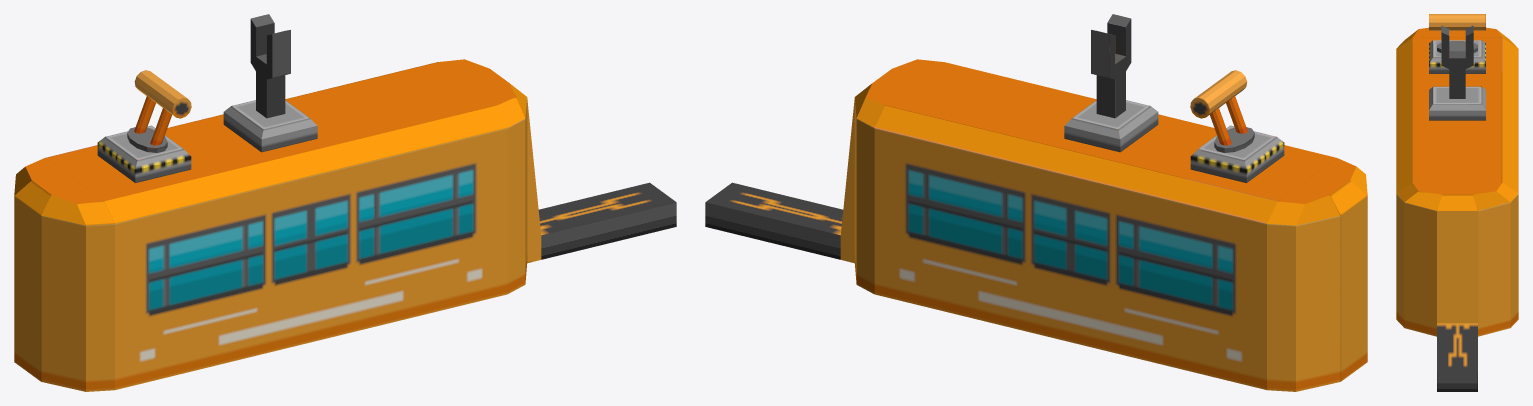
File: StreetCar.fbx
3 views of the same model, side by side, from view 1: azimuth 30°, elevation 25°; view 2: azimuth 150°, elevation 25°; view 3: azimuth 270°, elevation 25° (orthographic). The views are drawn at different scales.
Parts seen in each view (by area): view 1: cuboid, cuboid_3, cuboid_2, cuboid_1, cylinder_2, cylinder_3; view 2: cuboid, cuboid_3, cuboid_2, cuboid_1, cylinder_2, cylinder_3; view 3: cuboid, cuboid_2, cuboid_3, cylinder_2, cuboid_1, cylinder_3.
Boxes of the visible parts, x1,y1,x2,y2 form: cuboid: (14, 59, 676, 391); cuboid_3: (250, 14, 290, 118); cuboid_2: (223, 100, 317, 152); cuboid_1: (97, 125, 191, 182); cylinder_2: (134, 70, 191, 118); cylinder_3: (127, 127, 167, 152); cuboid: (705, 59, 1367, 391); cuboid_3: (1091, 14, 1131, 118); cuboid_2: (1064, 100, 1158, 152); cuboid_1: (1190, 125, 1284, 182); cylinder_2: (1190, 70, 1247, 118); cylinder_3: (1214, 127, 1254, 160); cuboid: (1396, 27, 1518, 391); cuboid_2: (1429, 86, 1485, 120); cuboid_3: (1441, 25, 1473, 98); cylinder_2: (1429, 14, 1485, 30); cuboid_1: (1429, 40, 1485, 73); cylinder_3: (1437, 41, 1477, 52).
Bounding box in the file's own units: 85 × 36.88 × 18.75.
Materials: 1 (1 with a texture image).
